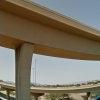Bridge: (8, 1, 97, 79)
